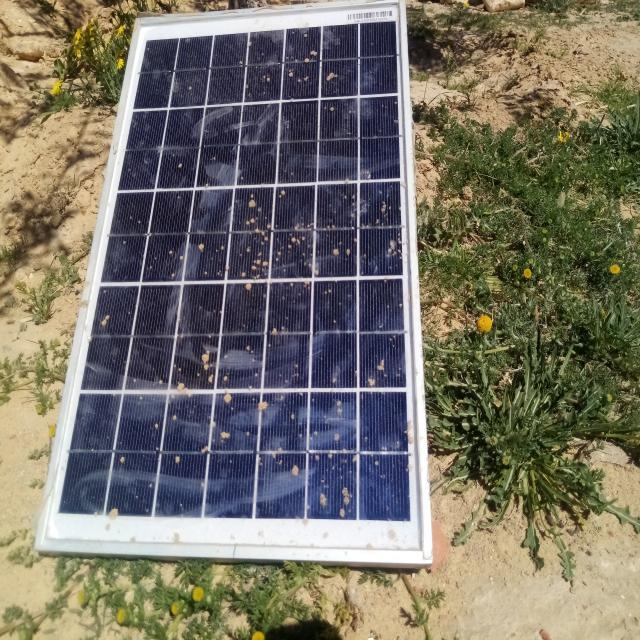faulty: (38, 2, 429, 558)
